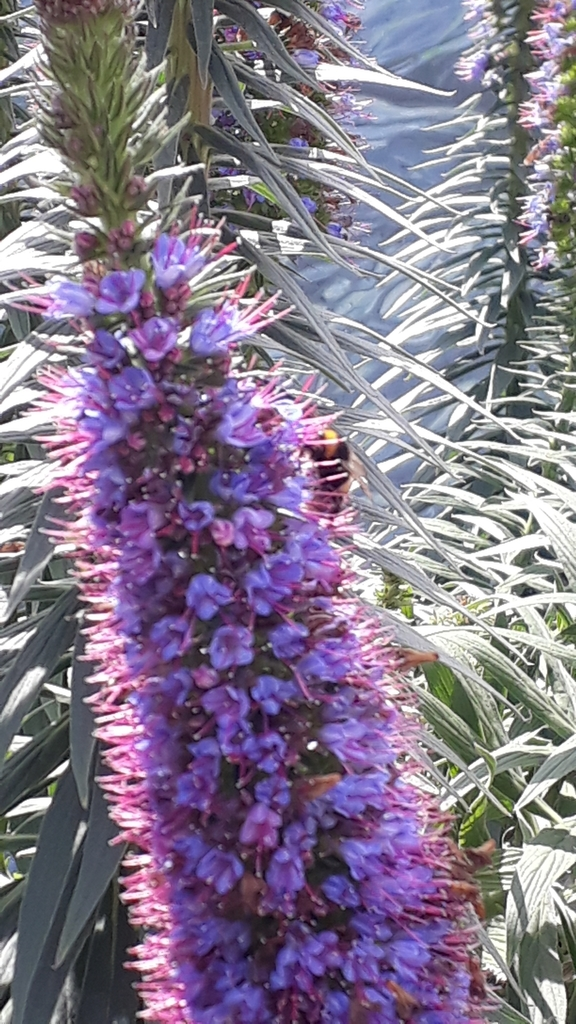bumblebee: (299, 427, 354, 519)
